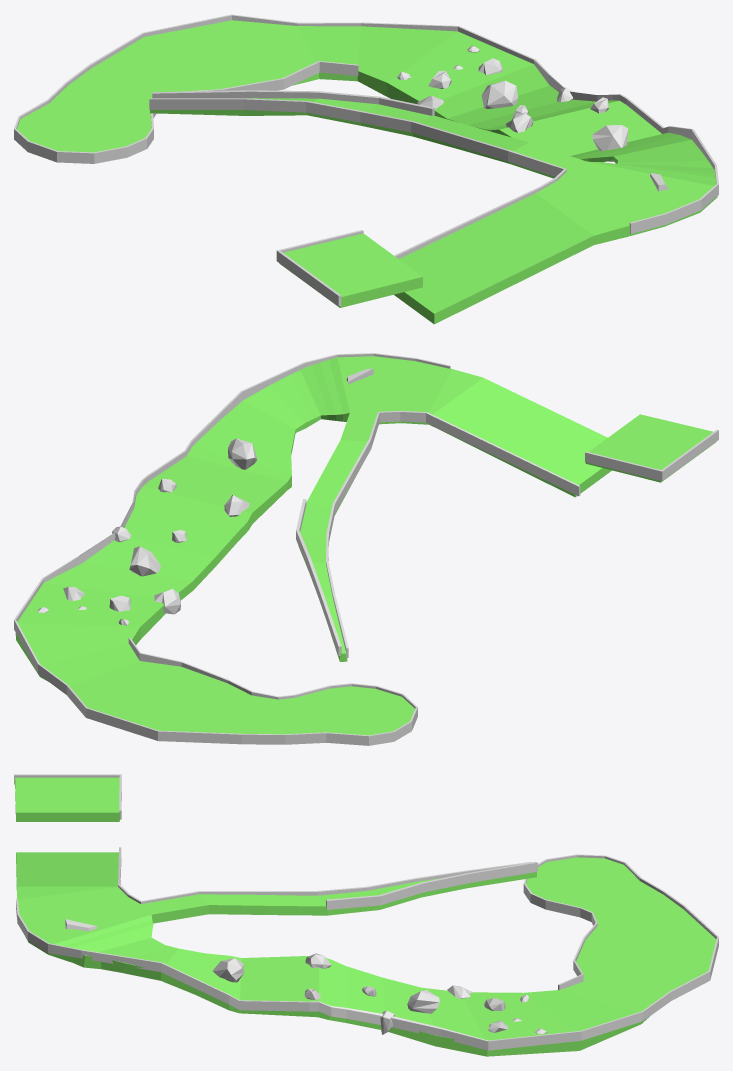
The picture shows the model from 3 angles, top to bottom: view 1: azimuth 30°, elevation 25°; view 2: azimuth 150°, elevation 25°; view 3: azimuth 270°, elevation 25°; orthographic projection. The views are drawn at different scales.
Visible parts, largest first — view 1: Cube.056, Cube.057, Icosphere.073, Icosphere.070; view 2: Cube.056, Cube.057, Icosphere.070, Icosphere.073; view 3: Cube.056, Cube.057, Icosphere.073, Icosphere.070.
Part boxes in pixels (left/top/right/bottom): Cube.056: left=17, top=20, right=717, bottom=324; Cube.057: left=14, top=14, right=718, bottom=306; Icosphere.073: left=481, top=80, right=518, bottom=108; Icosphere.070: left=592, top=125, right=628, bottom=161; Cube.056: left=15, top=356, right=715, bottom=735; Cube.057: left=14, top=353, right=718, bottom=745; Icosphere.070: left=228, top=438, right=257, bottom=469; Icosphere.073: left=129, top=546, right=160, bottom=576; Cube.056: left=15, top=777, right=716, bottom=1056; Cube.057: left=14, top=774, right=718, bottom=1050; Icosphere.073: left=407, top=990, right=439, bottom=1013; Icosphere.070: left=212, top=958, right=243, bottom=982.
Bounding box in the file's own units: 1869 × 398 × 2793.
